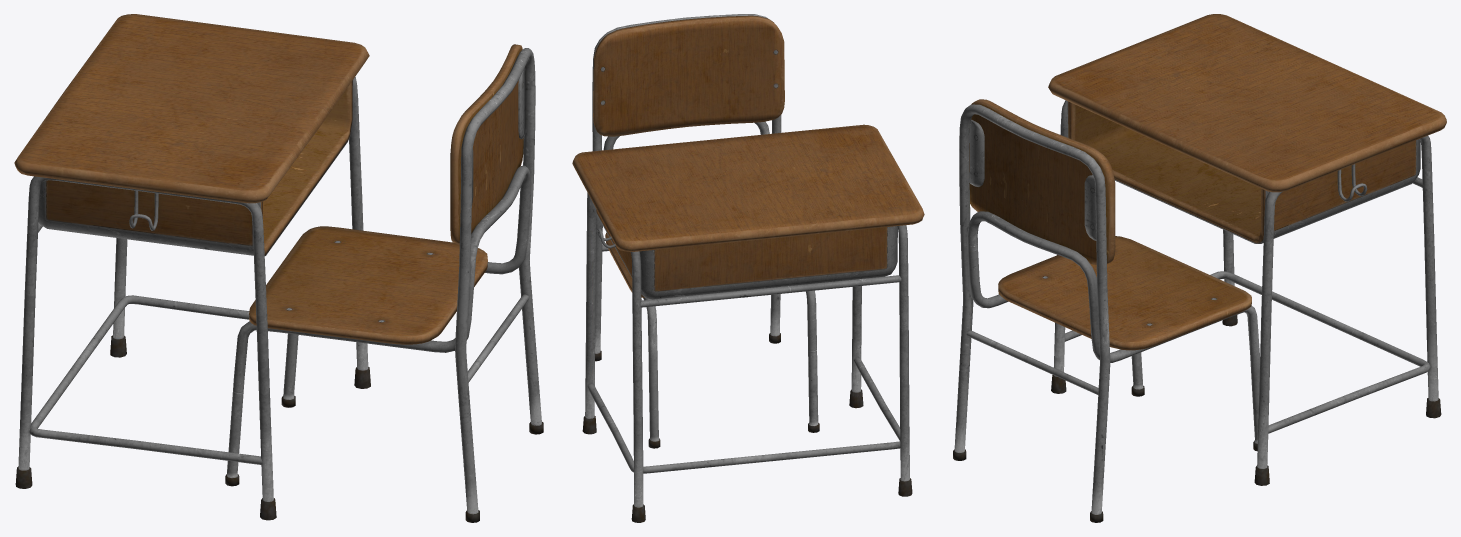
3 views of the same model, side by side, from view 1: azimuth 30°, elevation 25°; view 2: azimuth 150°, elevation 25°; view 3: azimuth 270°, elevation 25° (orthographic). The views are drawn at different scales.
Parts seen in each view (by area): view 1: DeskWood_L, ChairWood_L, ChairMetal_L, DeskMetal_L; view 2: DeskWood_L, ChairWood_L, DeskMetal_L, ChairMetal_L; view 3: DeskWood_L, ChairWood_L, ChairMetal_L, DeskMetal_L.
Boxes of the visible parts, x1,y1,x2,y2 form: DeskWood_L: (14, 14, 369, 255); ChairWood_L: (249, 44, 523, 344); ChairMetal_L: (225, 48, 543, 522); DeskMetal_L: (15, 77, 370, 520); DeskWood_L: (572, 124, 924, 299); ChairWood_L: (593, 15, 784, 297); DeskMetal_L: (582, 192, 912, 522); ChairMetal_L: (592, 14, 819, 448); DeskWood_L: (1048, 14, 1446, 243); ChairWood_L: (969, 99, 1251, 350); ChairMetal_L: (953, 104, 1259, 522); DeskMetal_L: (1051, 100, 1441, 485).
Bounding box in the file's own units: 146 × 120 × 148.
Materials: 1 (1 with a texture image).
